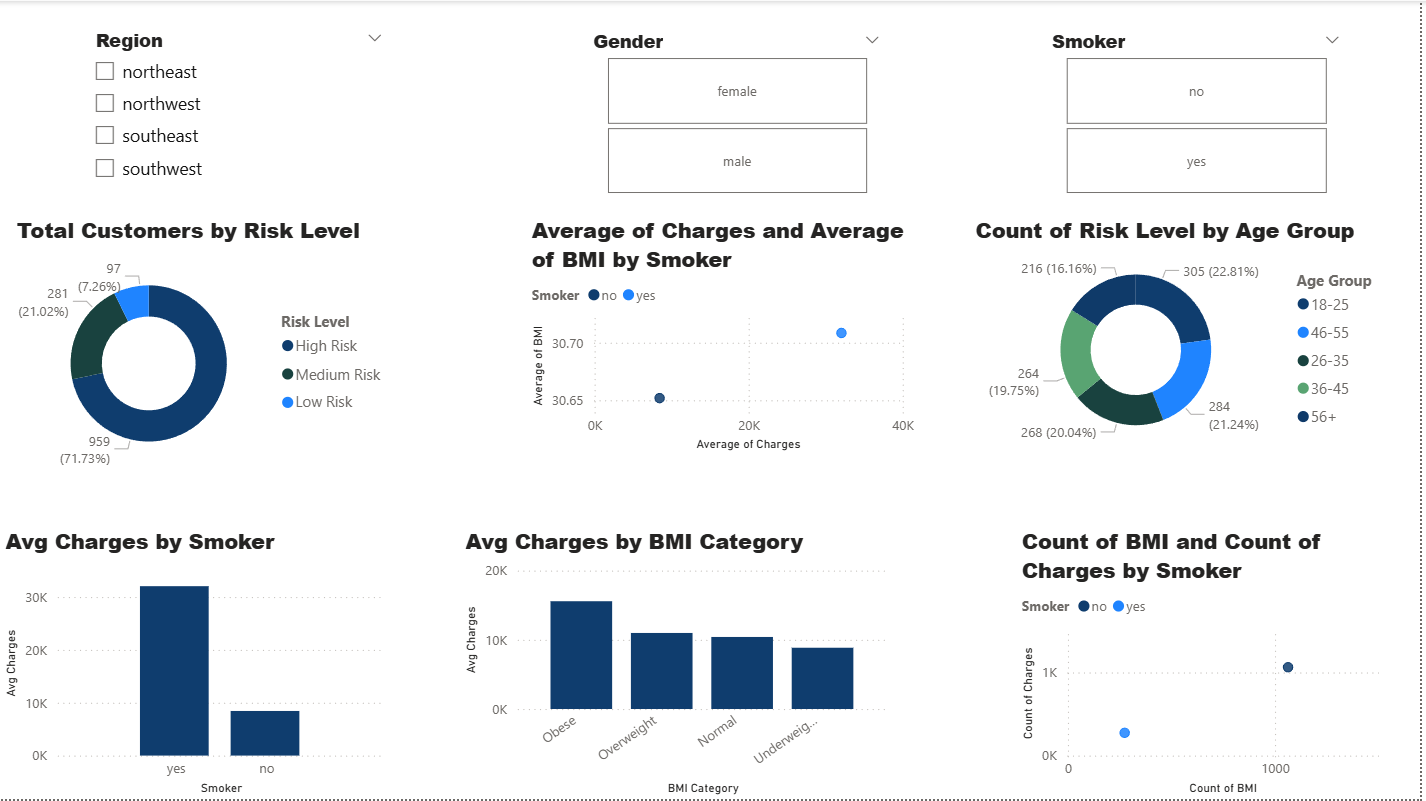

What the dashboard file says about the page in this screenshot:
{"tool":"powerbi","page":{"name":"Page 2","canvas":[1280,720],"ordinal":1},"visuals":[{"type":"slicer","fields":{"Values":["insurance.Sex"]},"box":[522.1,20.8,283.7,160.2],"z":0},{"type":"slicer","fields":{"Values":["insurance.Region"]},"box":[73.4,19.6,283.7,160.2],"z":1000},{"type":"columnChart","fields":{"Category":["insurance.Smoker"],"Y":["insurance.Avg Charges"]},"box":[0,473.2,352.2,247],"z":2000},{"type":"slicer","fields":{"Values":["insurance.Smoker"]},"box":[935.5,20.8,284.9,160.2],"z":3000},{"type":"columnChart","fields":{"Y":["insurance.Avg Charges"],"Category":["insurance.BMI Category"]},"box":[414.5,473.2,391.3,247],"z":4000},{"type":"scatterChart","fields":{"X":["CountNonNull(insurance.BMI)"],"Y":["CountNonNull(insurance.Charges)"],"Series":["insurance.Smoker"]},"box":[915.9,473.2,344.8,247],"z":5000},{"type":"donutChart","fields":{"Category":["insurance.Risk Level"],"Y":["insurance.Total Customers"]},"box":[9.8,193.2,347.3,242.1],"z":6000},{"type":"scatterChart","fields":{"X":["Avg(insurance.Charges)"],"Y":["Avg(insurance.BMI)"],"Series":["insurance.Smoker"]},"box":[474.5,193.2,354.6,217.7],"z":7000},{"type":"donutChart","fields":{"Y":["CountNonNull(insurance.Risk Level)"],"Category":["insurance.Age Group"]},"box":[874.3,193.2,386.4,217.7],"z":8000}]}

Visuals, with their boxes in screenshot pixels (x1, y1, x2, y2), scaled from the page's 1280x720 canvas onto the 1426x801 screenshot:
slicer - insurance.Sex: {"x1": 582, "y1": 23, "x2": 898, "y2": 201}
slicer - insurance.Region: {"x1": 82, "y1": 22, "x2": 398, "y2": 200}
columnChart - insurance.Smoker x insurance.Avg Charges: {"x1": 0, "y1": 526, "x2": 392, "y2": 800}
slicer - insurance.Smoker: {"x1": 1042, "y1": 23, "x2": 1360, "y2": 201}
columnChart - insurance.Avg Charges x insurance.BMI Category: {"x1": 462, "y1": 526, "x2": 898, "y2": 800}
scatterChart - CountNonNull(insurance.BMI) x CountNonNull(insurance.Charges): {"x1": 1020, "y1": 526, "x2": 1404, "y2": 800}
donutChart - insurance.Risk Level x insurance.Total Customers: {"x1": 11, "y1": 215, "x2": 398, "y2": 484}
scatterChart - Avg(insurance.Charges) x Avg(insurance.BMI): {"x1": 529, "y1": 215, "x2": 924, "y2": 457}
donutChart - CountNonNull(insurance.Risk Level) x insurance.Age Group: {"x1": 974, "y1": 215, "x2": 1404, "y2": 457}
